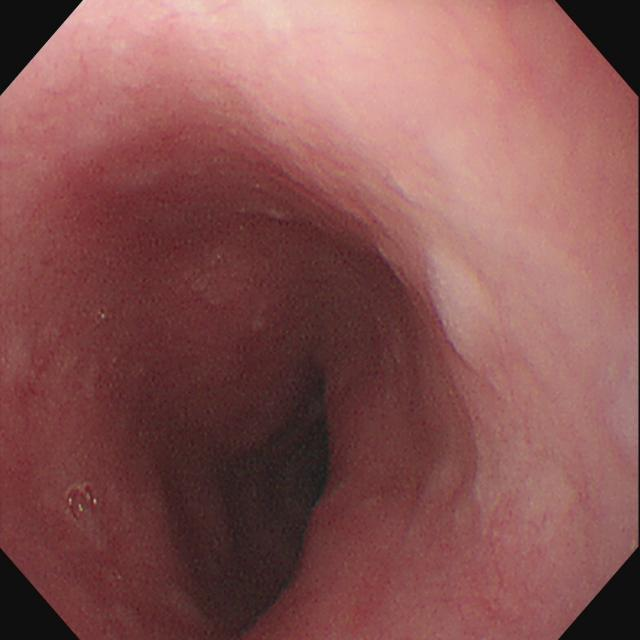E: (212, 353, 337, 625)
T: (65, 483, 99, 522)
